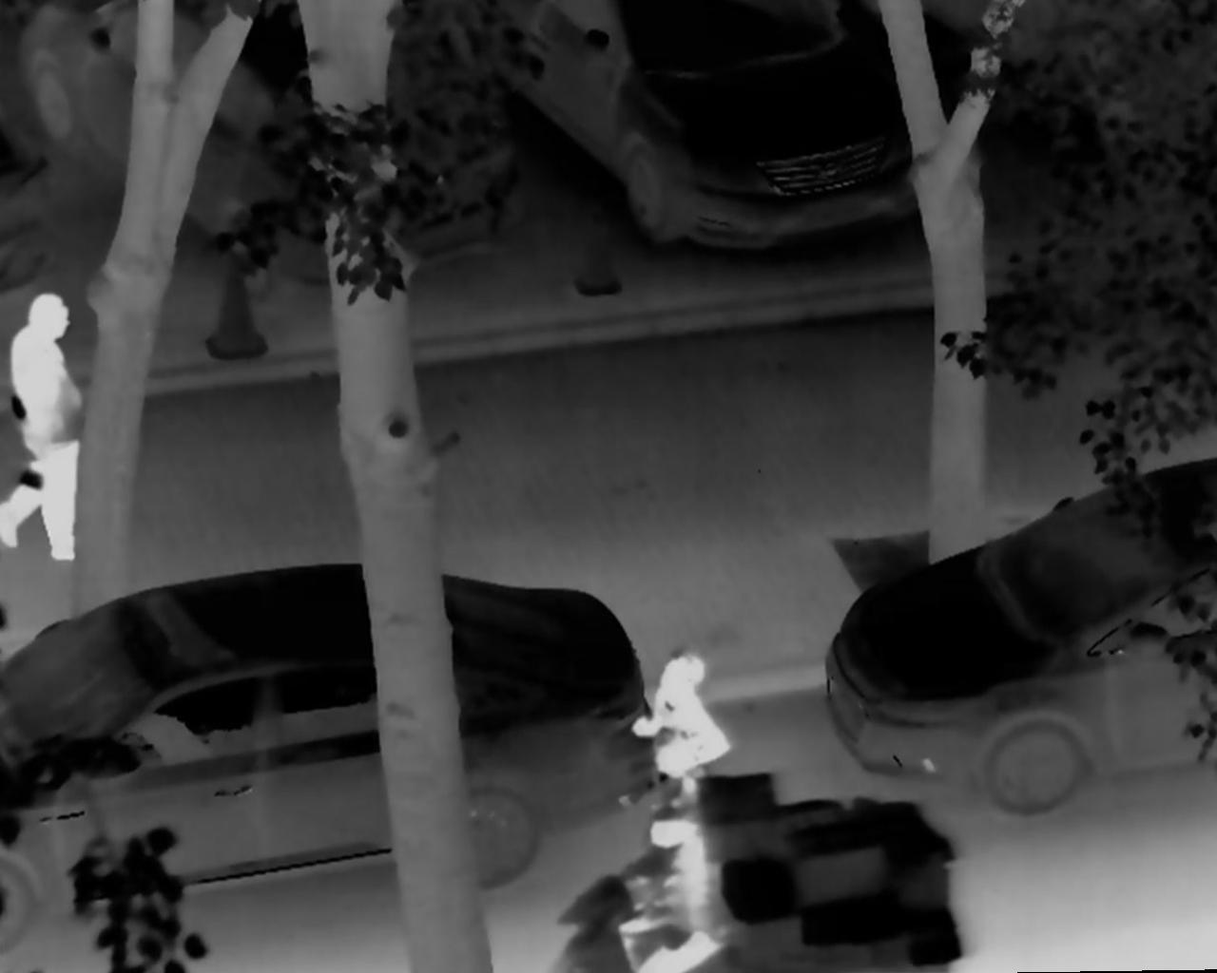person: (593, 792, 742, 973), (621, 635, 731, 819)
